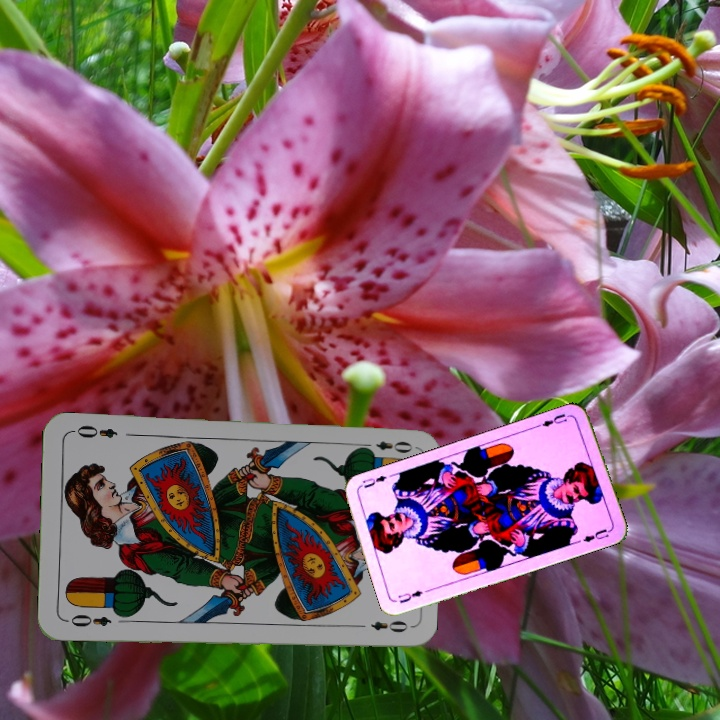EO: (357, 437, 415, 456), (62, 610, 114, 630)
EU: (534, 410, 569, 430), (394, 586, 425, 606)
